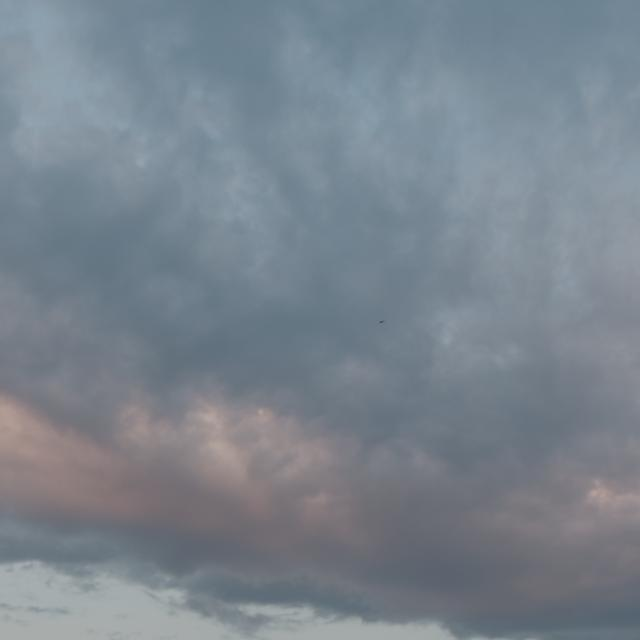Airaplan: (378, 321, 385, 323)
